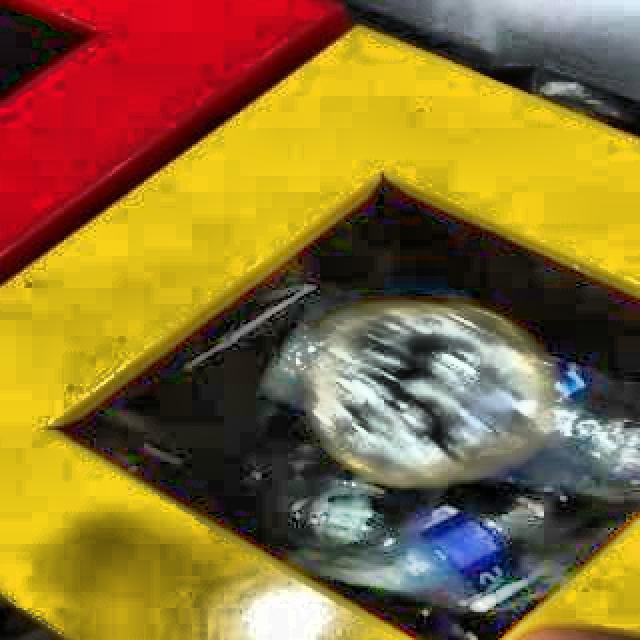plastic: (299, 302, 560, 488)
